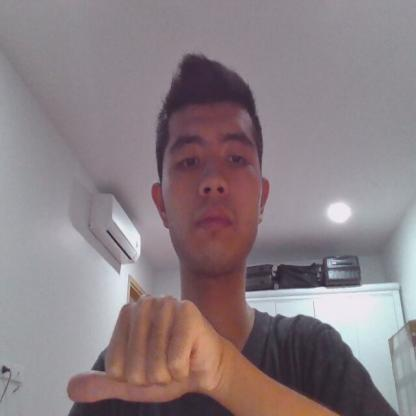right: (68, 295, 216, 409)
